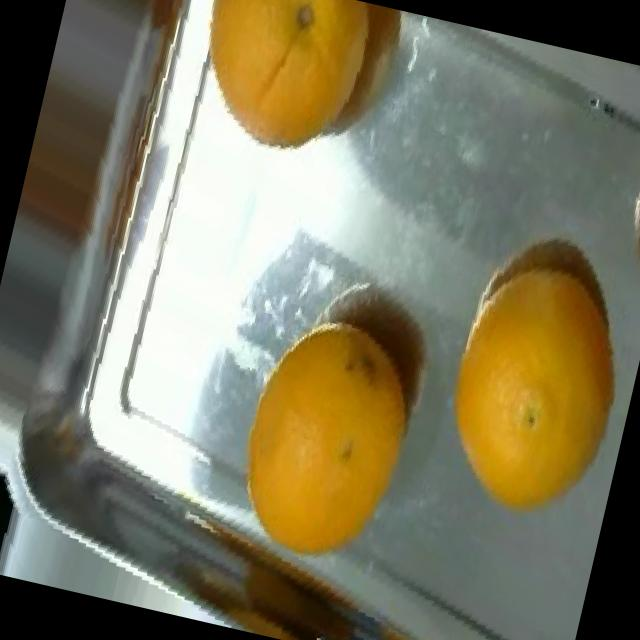Fruit: (209, 356, 430, 592), (439, 197, 640, 424), (594, 114, 640, 327), (0, 439, 44, 578)
